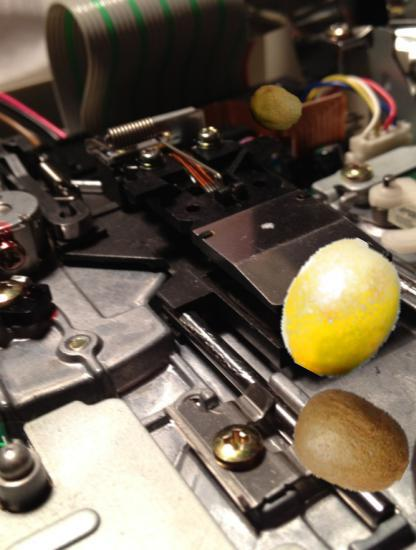Kiwi: (289, 381, 413, 505)
Maracuja: (271, 238, 412, 379)
Papaya: (249, 82, 303, 136)
